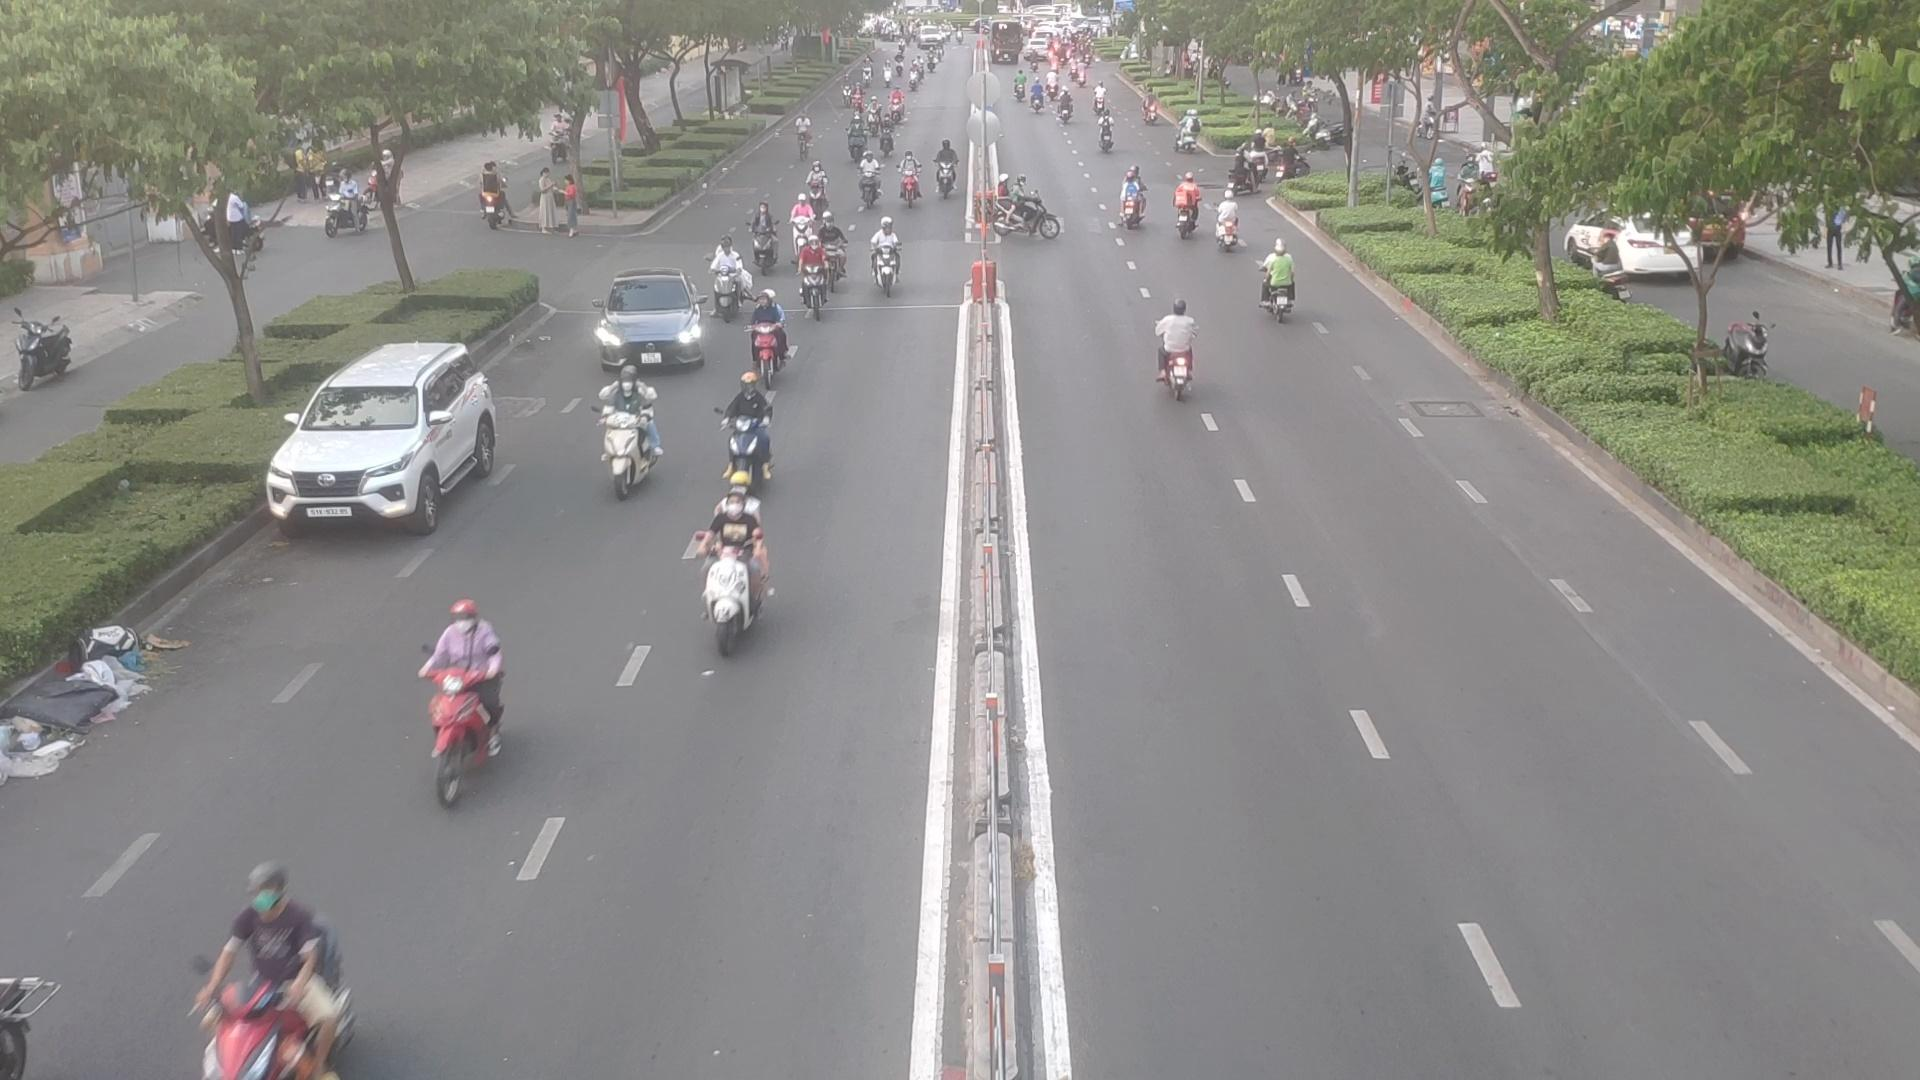car: (266, 343, 514, 533), (588, 270, 709, 373)
motorbike: (169, 876, 345, 1077), (406, 604, 516, 799), (684, 487, 771, 655), (589, 377, 665, 497), (712, 380, 773, 487), (1149, 301, 1209, 398), (992, 177, 1068, 247), (737, 293, 796, 378), (1250, 247, 1304, 322), (862, 222, 907, 294), (806, 216, 851, 286), (796, 237, 833, 313), (742, 204, 783, 272), (709, 266, 754, 319), (1168, 178, 1204, 239), (931, 136, 961, 198), (1217, 202, 1253, 255), (1120, 173, 1153, 228), (802, 162, 829, 220), (853, 157, 882, 208), (897, 150, 920, 208), (793, 194, 808, 251)
